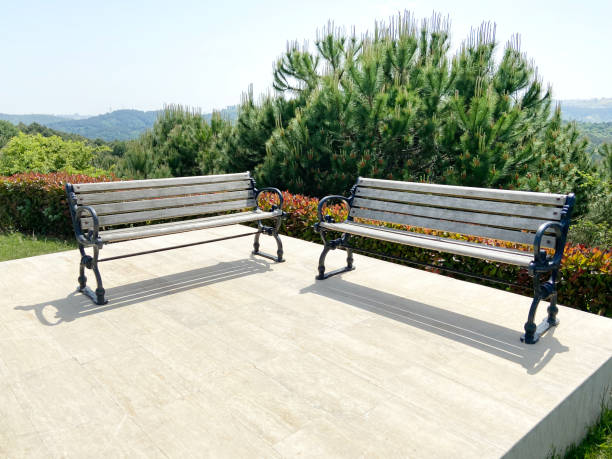bench: (312, 167, 580, 350), (63, 167, 291, 311)
